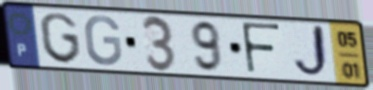3: (140, 13, 177, 74)
9: (188, 19, 225, 74)
F: (239, 20, 284, 78)
G: (37, 11, 84, 66), (83, 14, 125, 68)
J: (291, 23, 332, 82)
